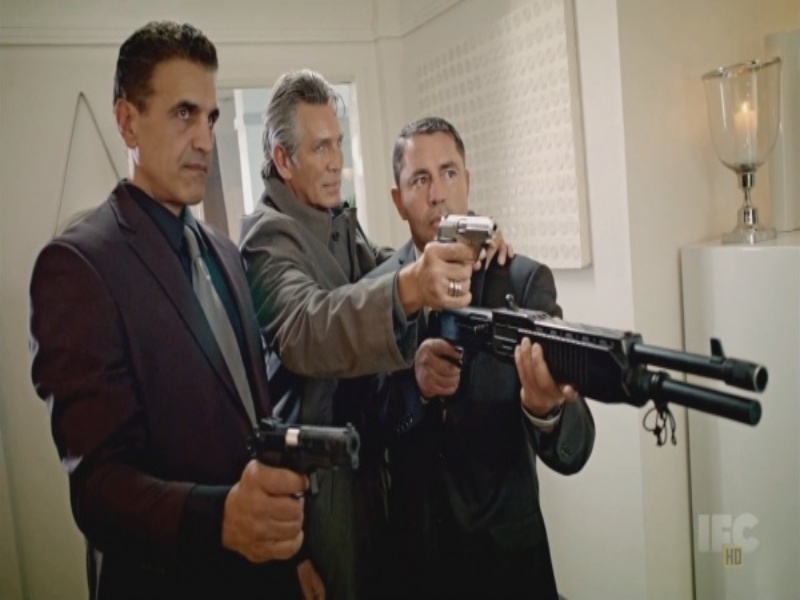person: (43, 17, 275, 597), (265, 71, 474, 588), (394, 113, 601, 597)
weapon: (431, 300, 772, 430), (251, 415, 363, 503), (436, 209, 497, 255)
